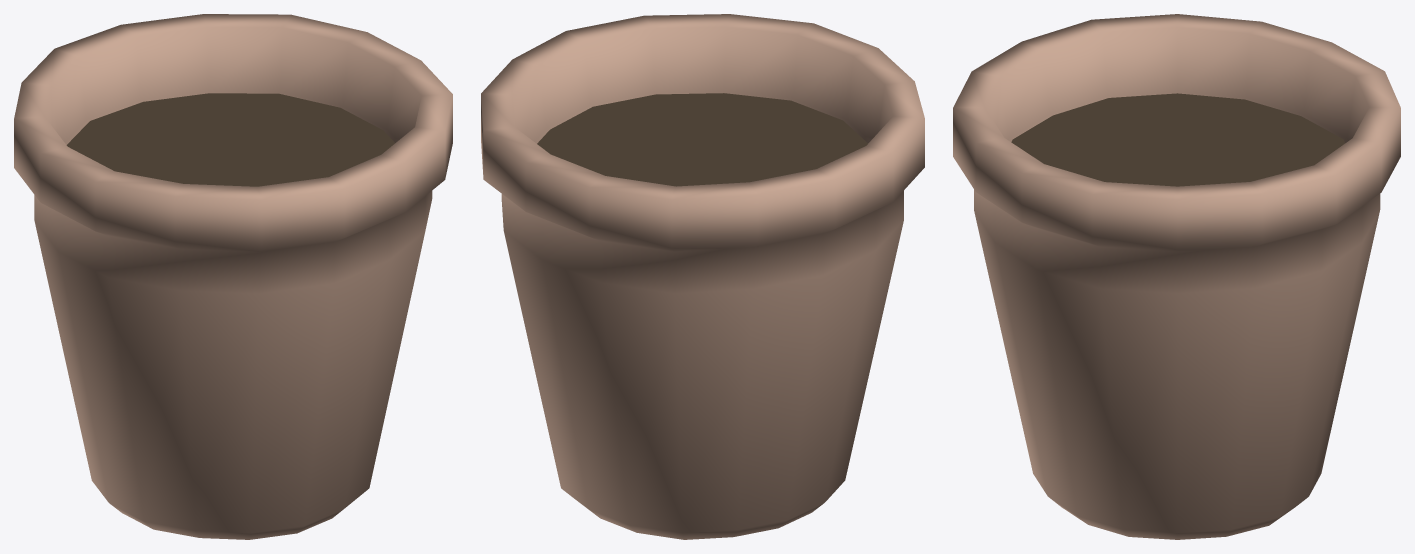
Rendered from CM_BotanicalPlanterKit01_Pot_Large.fbx.
The picture shows the model from 3 angles, left to right: view 1: azimuth 30°, elevation 25°; view 2: azimuth 150°, elevation 25°; view 3: azimuth 270°, elevation 25°; orthographic projection.
Visible parts, largest first — view 1: CM_BotanicalPlanterKit01_Pot_Large_Clay, CM_BotanicalPlanterKit01_Pot_Large_Soil; view 2: CM_BotanicalPlanterKit01_Pot_Large_Clay, CM_BotanicalPlanterKit01_Pot_Large_Soil; view 3: CM_BotanicalPlanterKit01_Pot_Large_Clay, CM_BotanicalPlanterKit01_Pot_Large_Soil.
Part boxes in pixels (<box>): CM_BotanicalPlanterKit01_Pot_Large_Clay: <box>14,14,452,539</box>; CM_BotanicalPlanterKit01_Pot_Large_Soil: <box>66,93,394,186</box>; CM_BotanicalPlanterKit01_Pot_Large_Clay: <box>481,14,924,539</box>; CM_BotanicalPlanterKit01_Pot_Large_Soil: <box>537,93,867,186</box>; CM_BotanicalPlanterKit01_Pot_Large_Clay: <box>953,14,1400,539</box>; CM_BotanicalPlanterKit01_Pot_Large_Soil: <box>1011,93,1345,186</box>.
Bounding box in the file's own units: 0.6506 × 0.62 × 0.6631.
